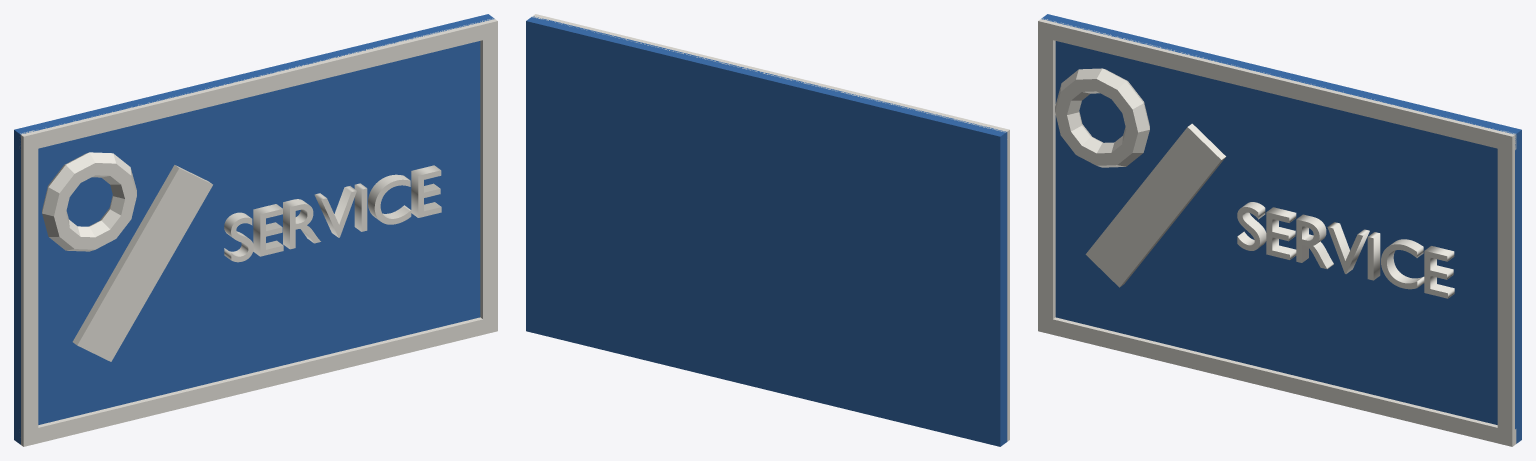
File: sign_service.glb
3 renders of one model, left to right at view 1: azimuth 30°, elevation 25°; view 2: azimuth 150°, elevation 25°; view 3: azimuth 330°, elevation 25°, orthographic.
Parts seen in each view (by area): view 1: sign_service; view 2: sign_service; view 3: sign_service.
Part boxes in pixels (x1=…): sign_service: x1=14, y1=14, x2=497, y2=446; sign_service: x1=526, y1=14, x2=1009, y2=446; sign_service: x1=1038, y1=14, x2=1521, y2=446.
Size of the model in its own units: 0.8 by 0.5 by 0.0473.
